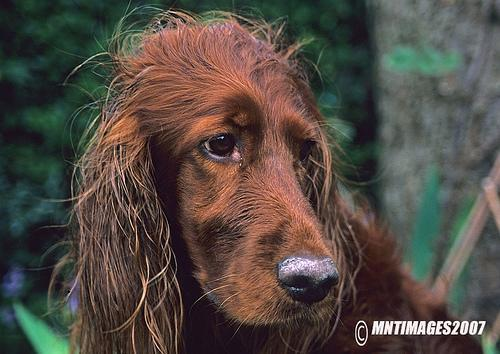Irish_setter: (44, 11, 486, 353)
